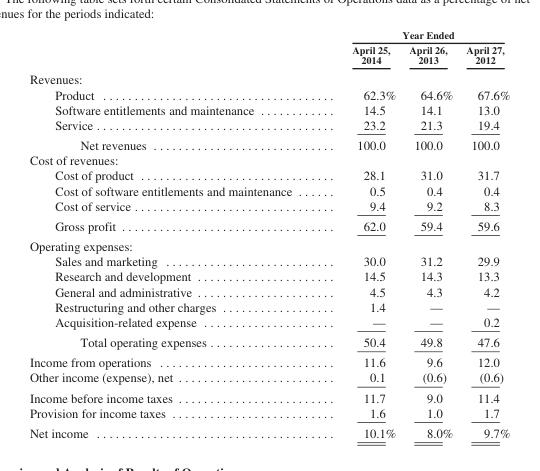table: (28, 28, 509, 439)
table column: (28, 28, 321, 439), (321, 28, 401, 439), (401, 28, 458, 439), (458, 28, 509, 439)
table column header: (28, 28, 509, 68)
table projected row header: (28, 68, 509, 86), (28, 235, 509, 253), (28, 152, 509, 167)
table row: (28, 41, 509, 68), (28, 215, 509, 235), (28, 331, 509, 351), (28, 68, 509, 86), (28, 134, 509, 152), (28, 197, 509, 215), (28, 235, 509, 253), (28, 313, 509, 331), (28, 351, 509, 369), (28, 369, 509, 387), (28, 404, 509, 422), (28, 117, 509, 134), (28, 387, 509, 404), (28, 422, 509, 439), (28, 101, 509, 117), (28, 86, 509, 101), (28, 152, 509, 167), (28, 167, 509, 182), (28, 182, 509, 197), (28, 253, 509, 268), (28, 268, 509, 283), (28, 283, 509, 298), (28, 298, 509, 313), (28, 28, 509, 41)
table spanning cell: (321, 28, 509, 41)
